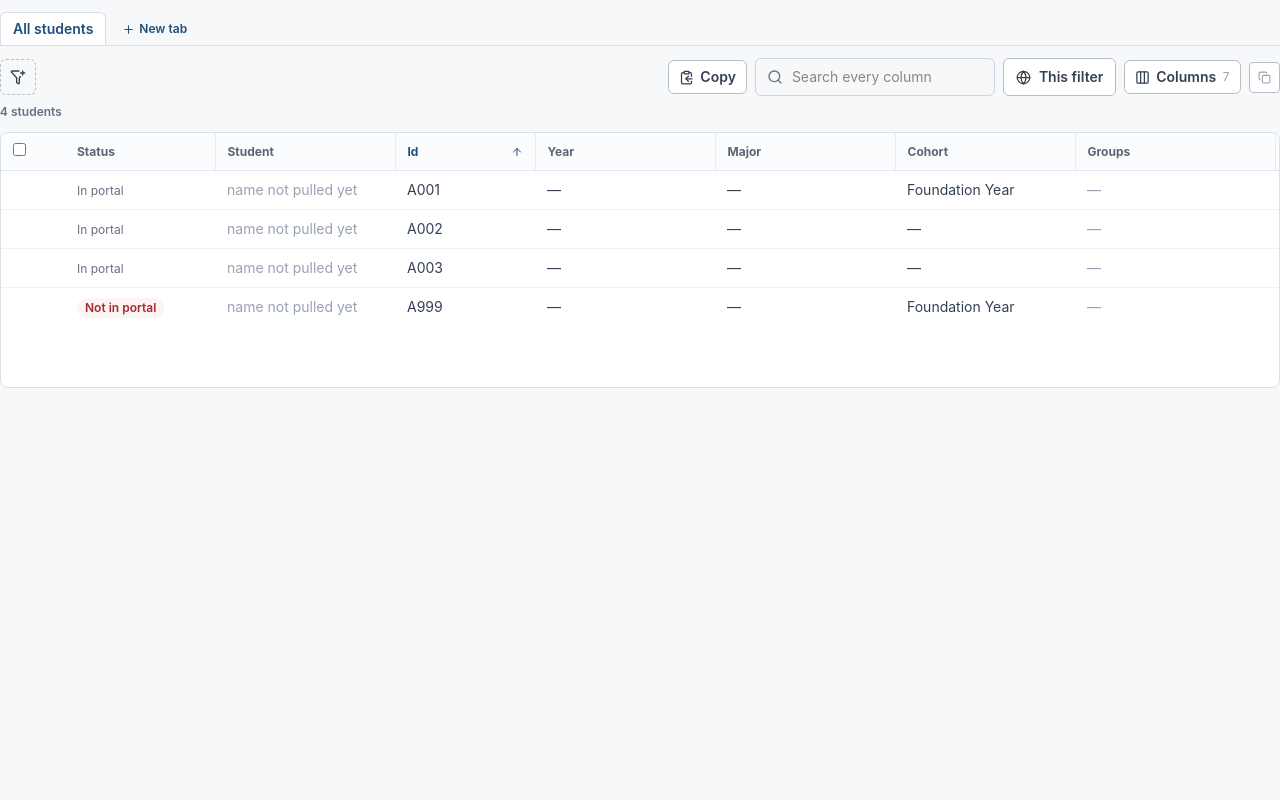
it: StudentRoster › columns › will not let go of the columns that carry the row's identity
Expected: the text "A001" is shown, [407, 181, 440, 198]
Click the button "Columns 7": (1183, 77) [1124, 60, 1241, 94]
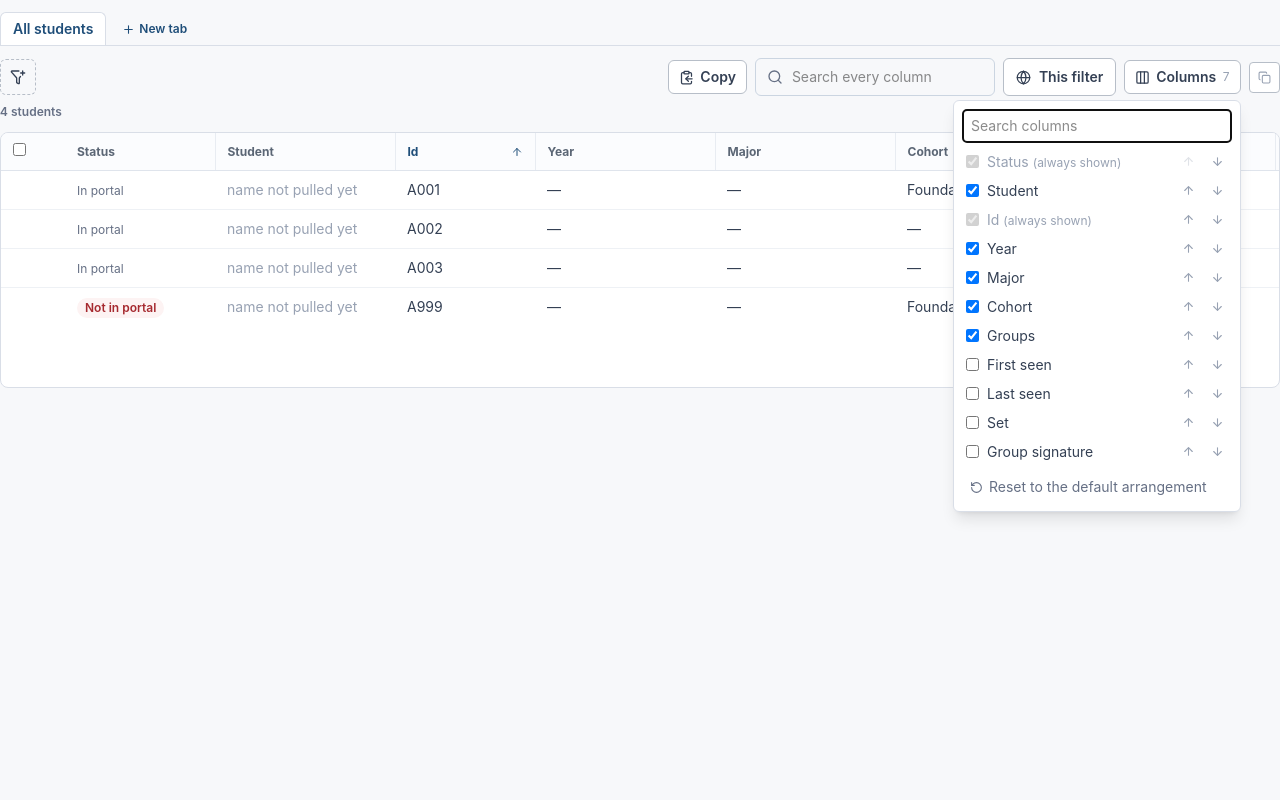
Result: the checkbox labelled "Id(always shown)" is disabled at [966, 213, 979, 226]
Result: the checkbox labelled "Status(always shown)" is disabled at [966, 155, 979, 168]
